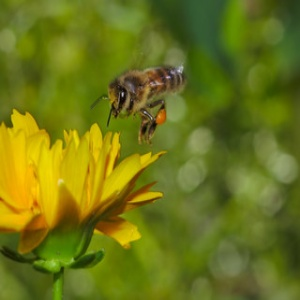bee: (89, 54, 195, 146)
